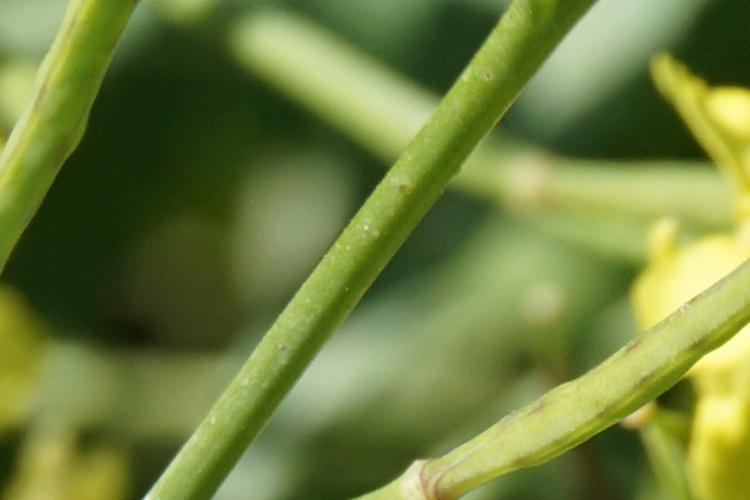pod: (432, 266, 747, 479)
